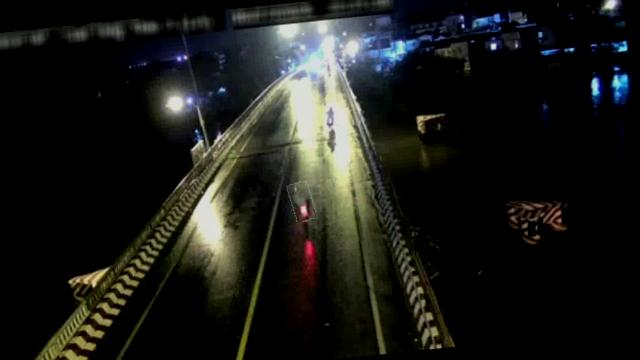Bike: (288, 181, 316, 223), (324, 106, 336, 129)
